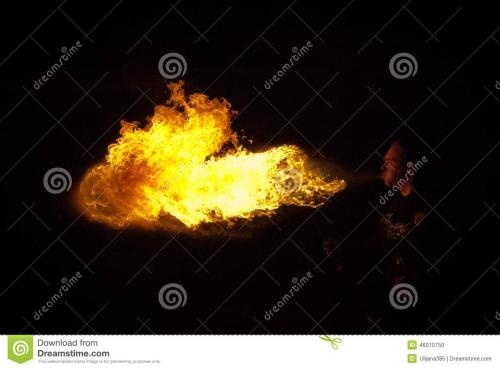fire: (75, 81, 339, 229)
